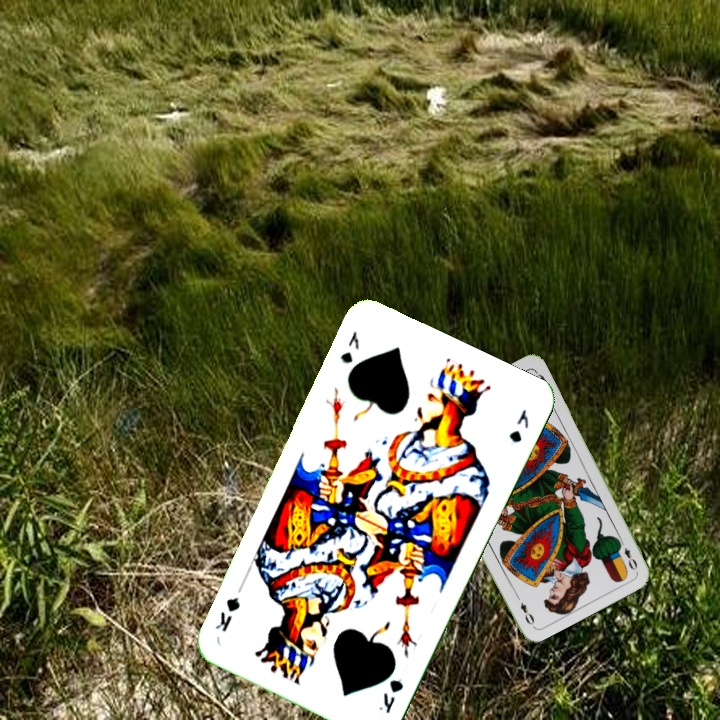EO: (615, 535, 640, 573)
GK: (374, 674, 406, 717), (336, 327, 362, 366)
